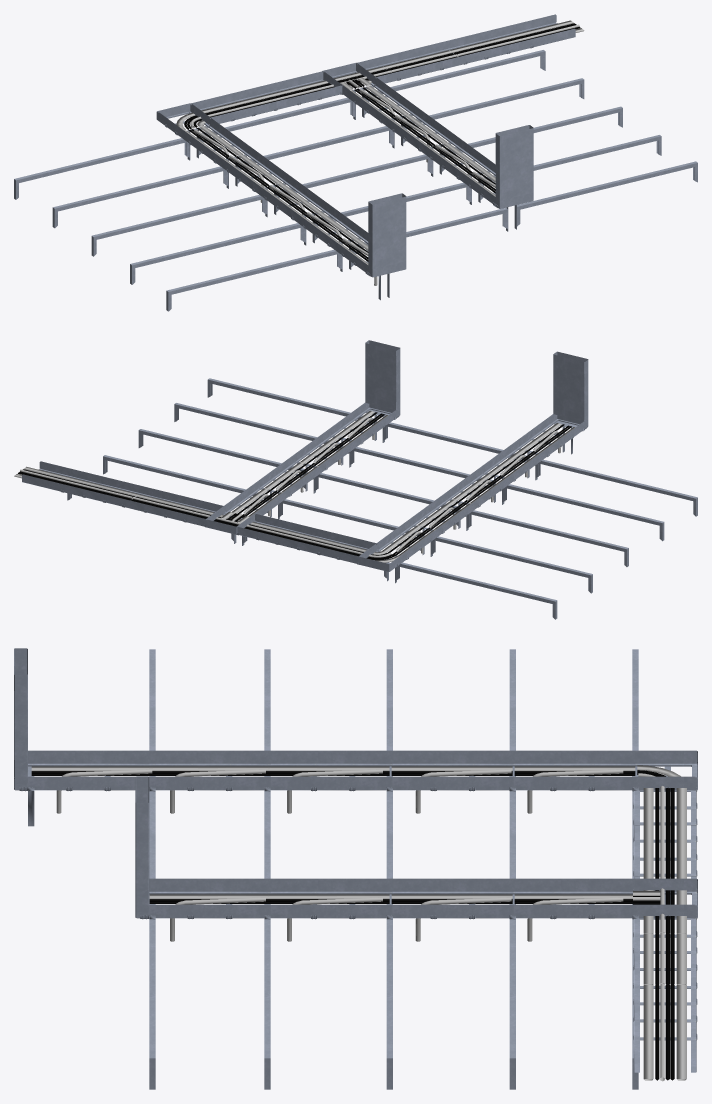
File: kabelrost.fbx
3 renders of one model, top to bottom at view 1: azimuth 30°, elevation 25°; view 2: azimuth 150°, elevation 25°; view 3: azimuth 270°, elevation 25°, orthographic. The views are drawn at different scales.
Parts seen in each view (by area): view 1: Plane.004, Plane.021, Plane.017, Plane.012, Plane.009, Cube.026, Cube.025, Cube.024, Cube.023, Cube.021, Cube.022, Cube.019 (+19 smaller); view 2: Plane.012, Plane.009, Plane.004, Plane.017, Cube.025, Cube.026, Plane.021, Cube.024, Cube.023, Cube.021, Cube.022, Cube.019 (+23 smaller); view 3: Cube.008, Cube.010, Cube.015, Cube.017, Cube.009, Cube.016, Cube, Cube.006, Cube.012, Plane.004, Plane.009, Plane.012 (+21 smaller).
Part boxes in pixels (<box>): Plane.004: <box>166,161,697,311</box>; Plane.021: <box>14,50,545,199</box>; Plane.017: <box>52,78,584,228</box>; Plane.012: <box>91,106,622,256</box>; Plane.009: <box>130,135,661,284</box>; Cube.026: <box>368,193,406,269</box>; Cube.025: <box>495,125,533,200</box>; Cube.024: <box>489,14,575,52</box>; Cube.023: <box>423,30,509,68</box>; Cube.021: <box>257,71,342,109</box>; Cube.022: <box>357,47,442,83</box>; Cube.019: <box>190,87,276,123</box>; Plane.012: <box>138,429,628,566</box>; Plane.009: <box>174,403,664,541</box>; Plane.004: <box>207,378,697,516</box>; Plane.017: <box>103,455,592,593</box>; Cube.025: <box>365,340,400,410</box>; Cube.026: <box>553,351,588,421</box>; Plane.021: <box>67,493,557,619</box>; Cube.024: <box>22,461,101,496</box>; Cube.023: <box>83,476,162,511</box>; Cube.021: <box>236,513,315,548</box>; Cube.022: <box>144,491,223,526</box>; Cube.019: <box>297,528,377,563</box>; Cube.008: <box>270,750,392,790</box>; Cube.010: <box>513,750,635,790</box>; Cube.015: <box>270,878,392,918</box>; Cube.017: <box>513,878,635,918</box>; Cube.009: <box>392,750,513,790</box>; Cube.016: <box>392,878,513,918</box>; Cube: <box>149,750,270,790</box>; Cube.006: <box>149,878,270,918</box>; Cube.012: <box>28,750,149,790</box>; Plane.004: <box>149,649,155,1089</box>; Plane.009: <box>264,649,270,1089</box>; Plane.012: <box>386,649,392,1089</box>.
Size of the model in its own units: 4.38 by 6.71 by 1.14.
